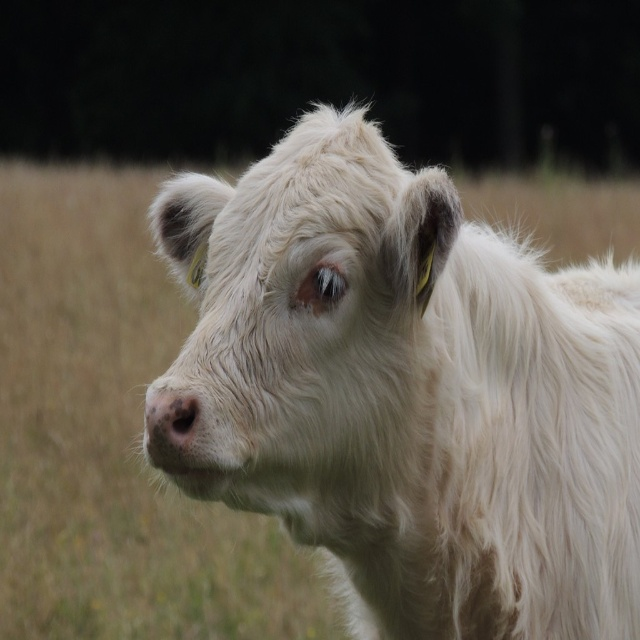Cattle: (118, 75, 640, 631)
